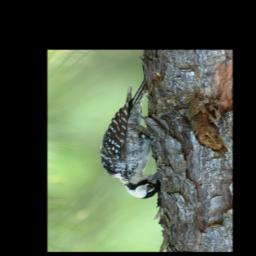Woodpecker: (98, 79, 160, 199)
